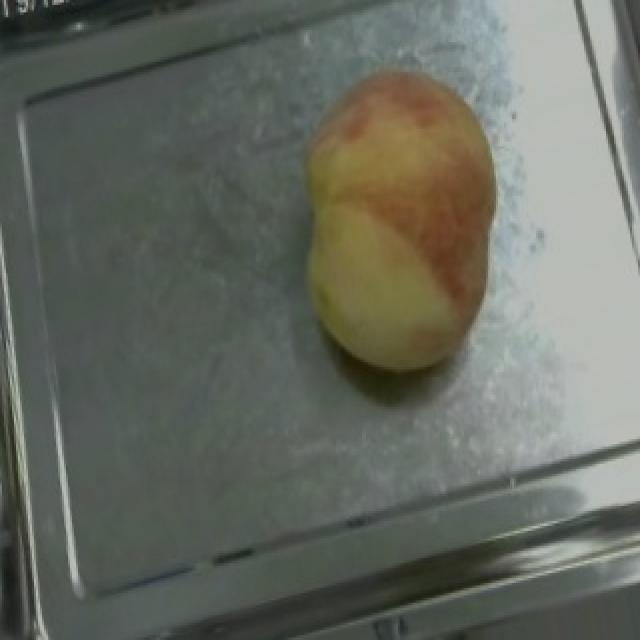Fruit: (262, 45, 536, 402)
